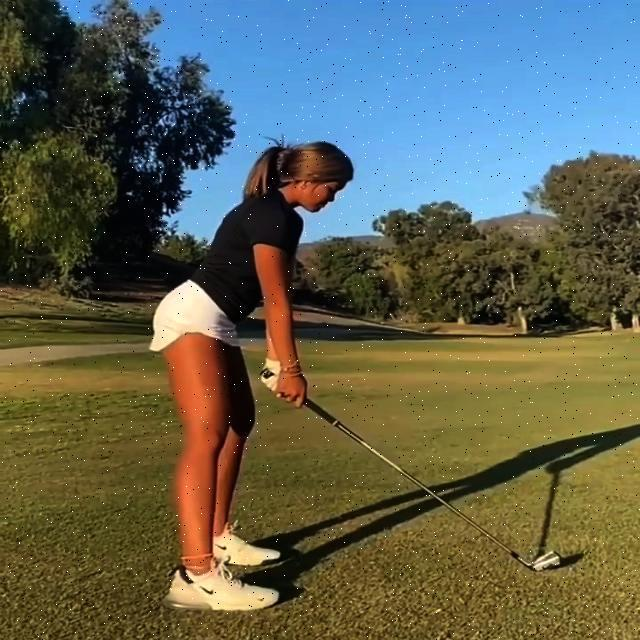ClubHead: (532, 551, 563, 572)
